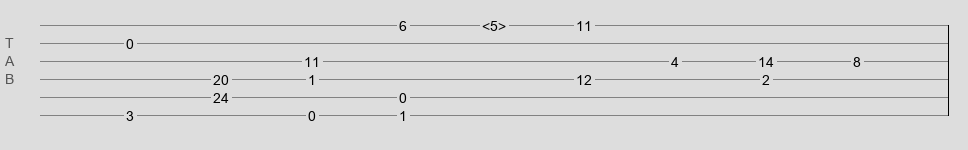0: (126, 36, 134, 46), (308, 108, 316, 118), (399, 90, 407, 100)
1: (308, 72, 316, 82), (399, 108, 407, 118)
11: (304, 54, 320, 64), (576, 18, 592, 28)
12: (576, 72, 592, 82)
14: (758, 54, 774, 64)
2: (762, 72, 770, 82)
20: (213, 72, 229, 82)
24: (213, 90, 229, 100)
3: (126, 108, 134, 118)
4: (671, 54, 679, 64)
6: (399, 18, 407, 28)
8: (853, 54, 861, 64)
harmonic: (482, 18, 506, 28)
